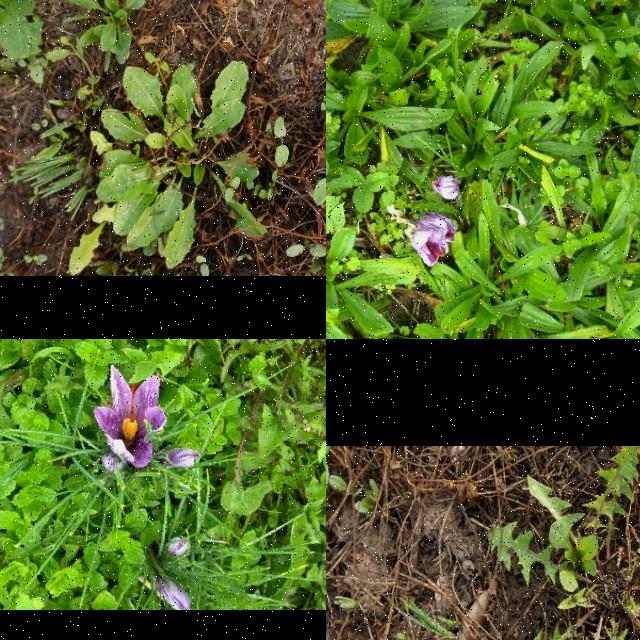flower: (94, 366, 168, 468), (156, 580, 192, 610), (432, 178, 460, 202), (168, 448, 200, 468), (168, 536, 192, 560), (101, 455, 125, 475)
overlap: (409, 218, 459, 268)
